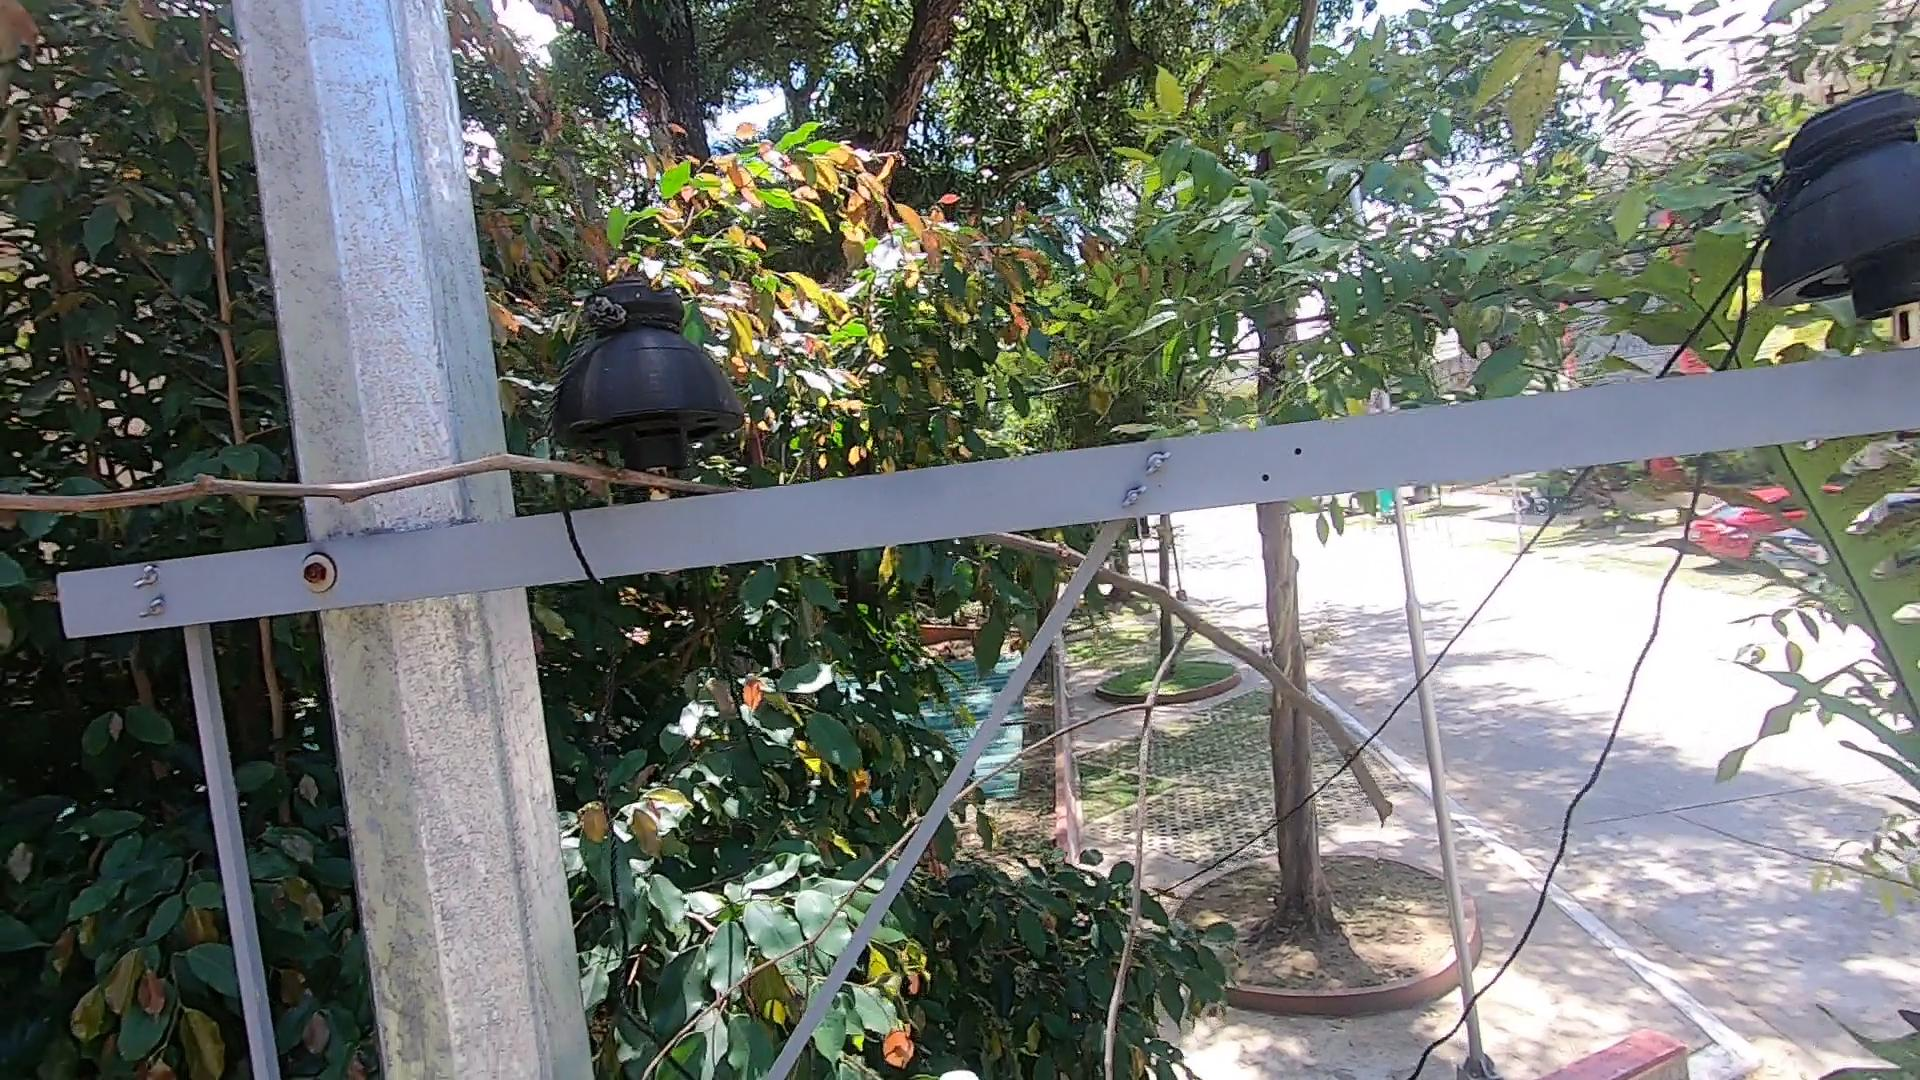tree branch: (1, 434, 1432, 1080)
